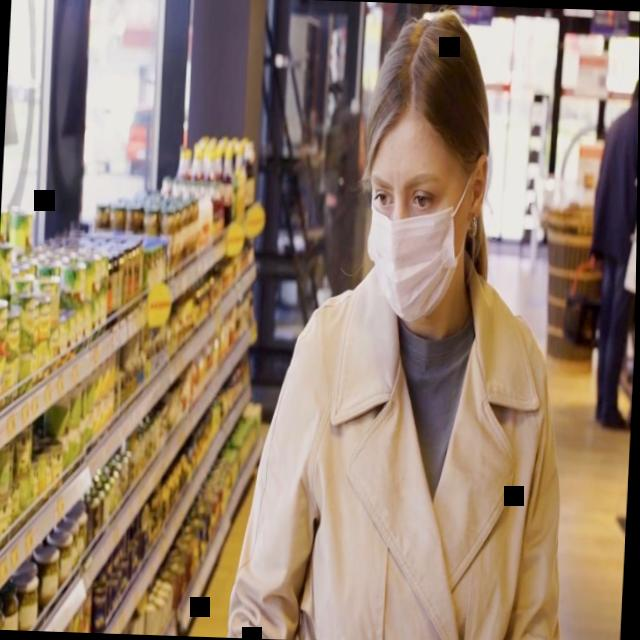Mask: (363, 150, 473, 322)
